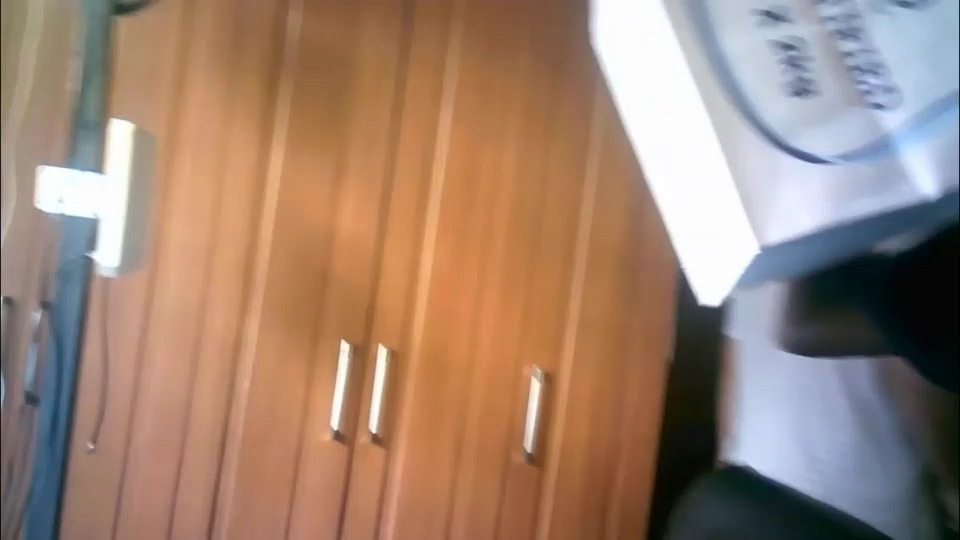wheat_flour_blue_label: (595, 2, 960, 310)
